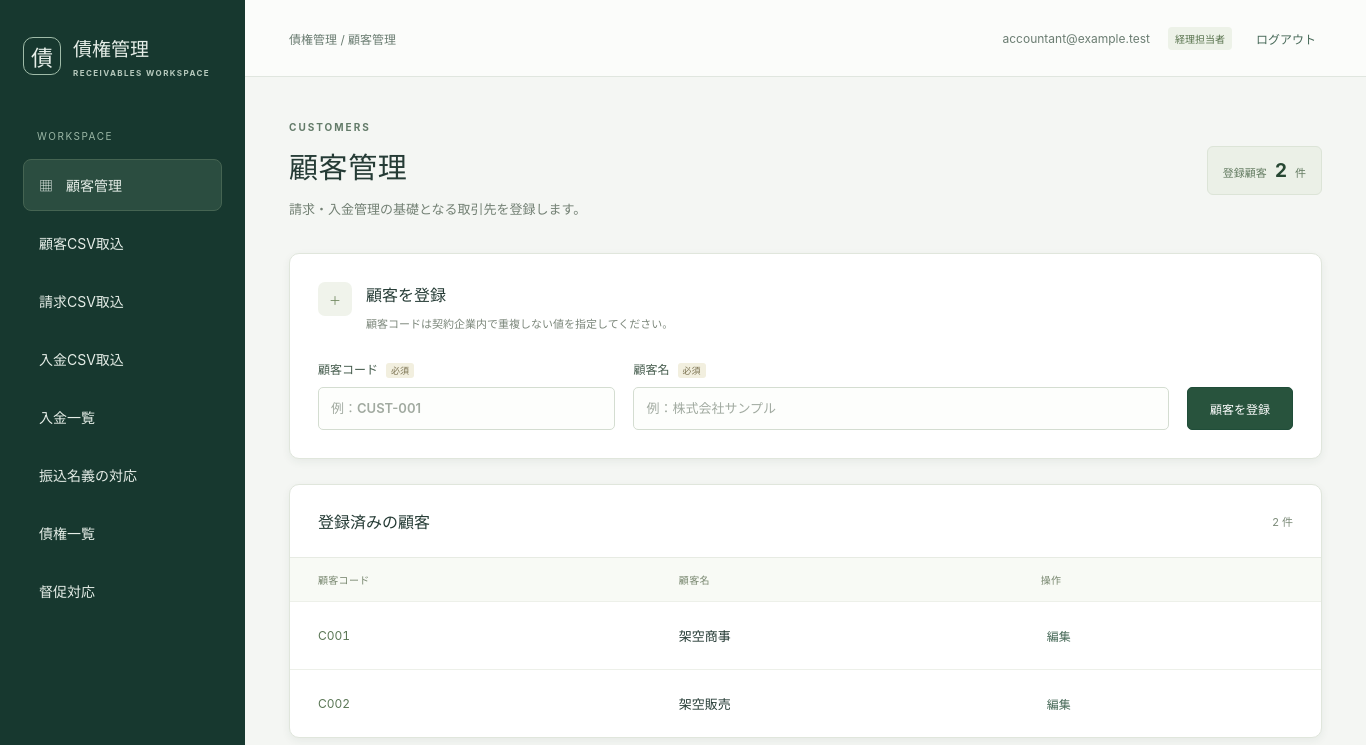
Test case: Manual payer aliases › keeps duplicate registration input and explains that the active pair already exists
Click the button "振込名義の対応". click: click(122, 475)
box: [23, 449, 222, 501]
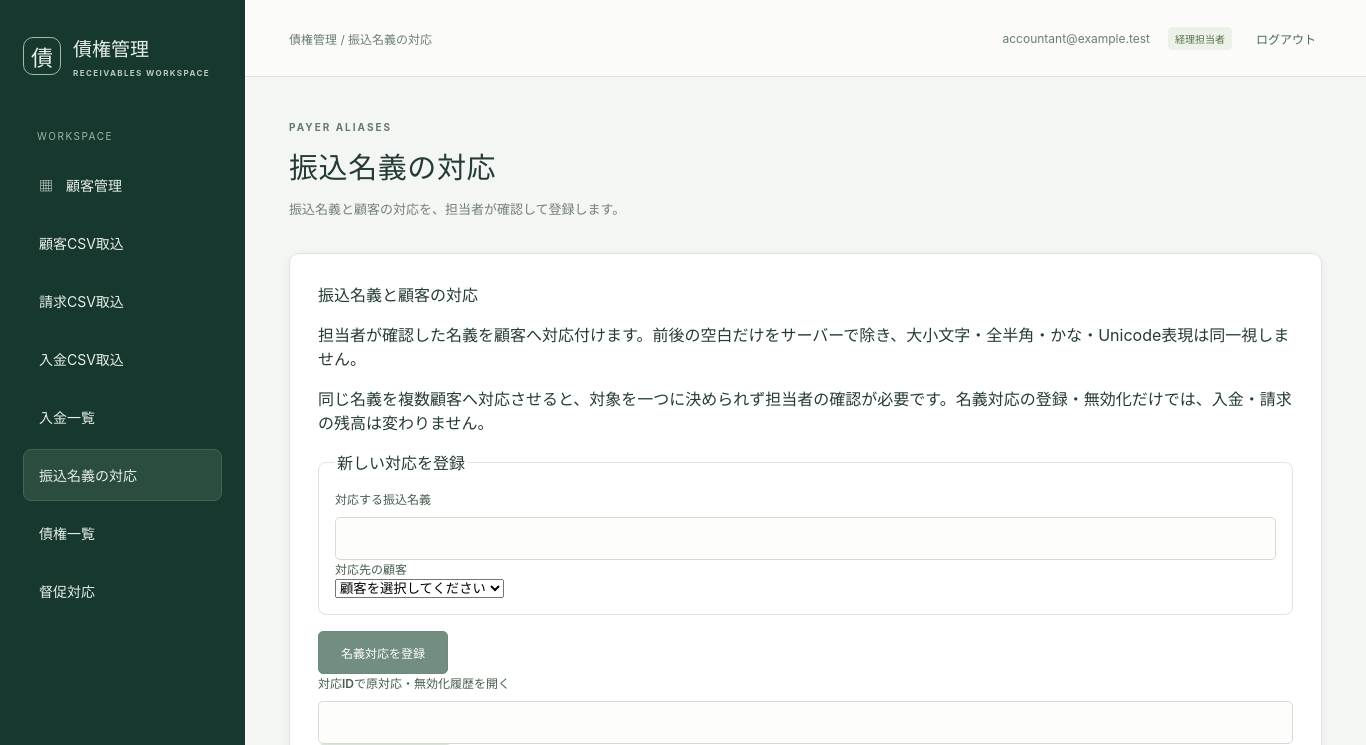
Type "  ｶｸｳ KAKUU kakuu é é  " into the field labelled "対応する振込名義". click: (806, 539)
box: [335, 517, 1276, 560]
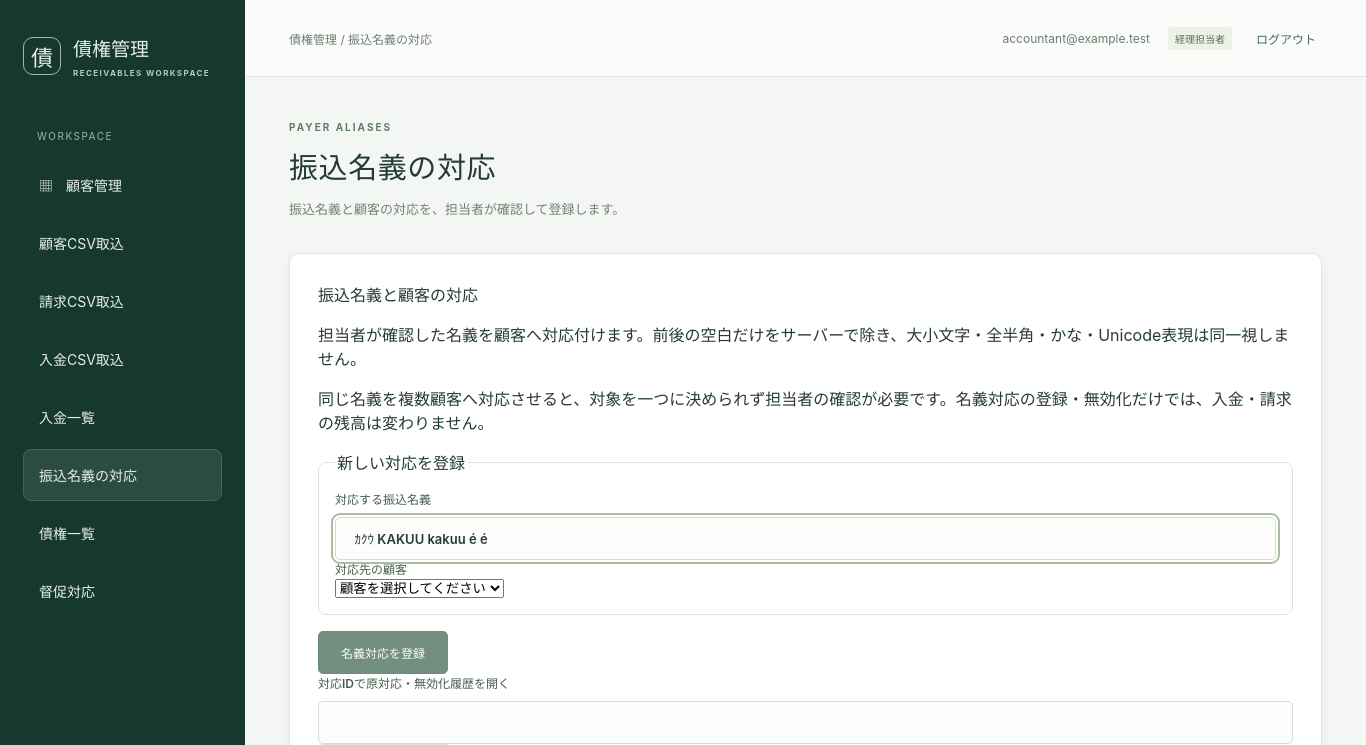
Select "C001 — 架空商事" in the dropdown labelled "対応先の顧客". click: (420, 589)
box: [335, 579, 504, 598]
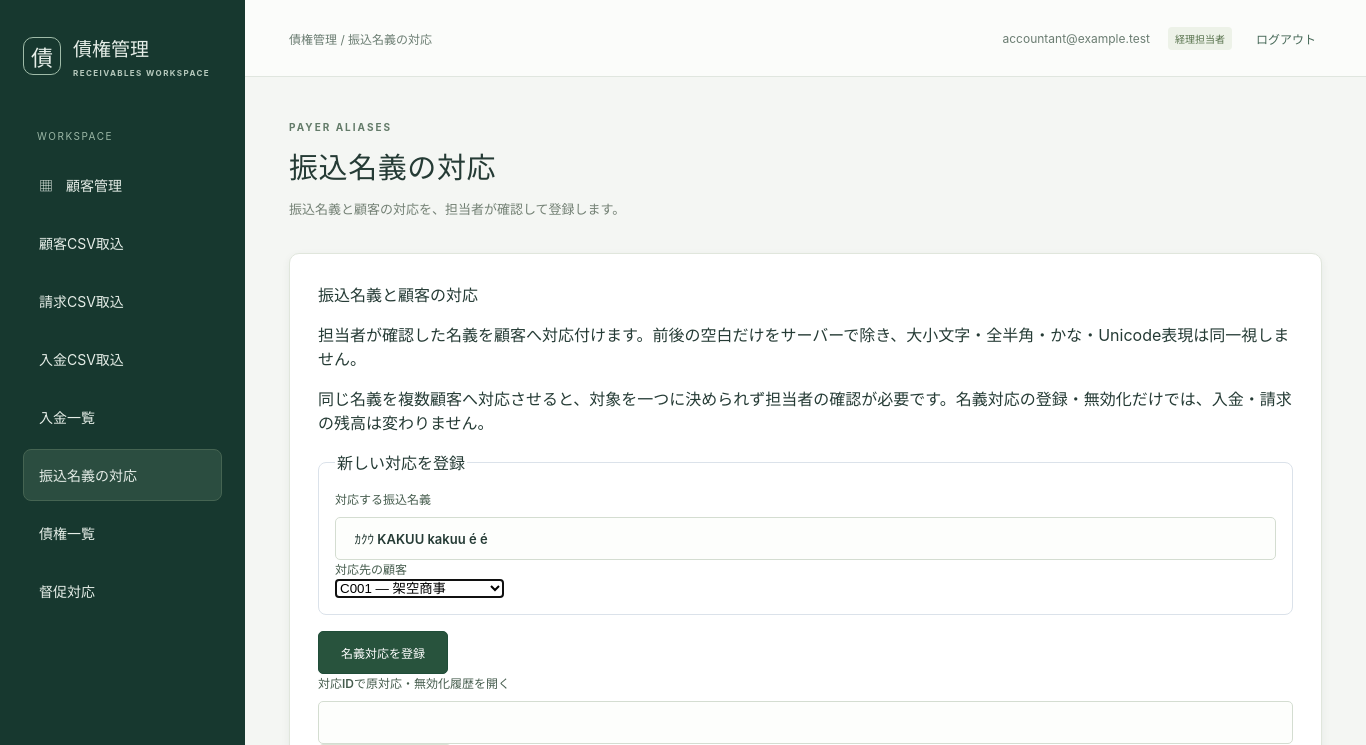
Click the button "名義対応を登録". click: click(383, 653)
box: [318, 631, 448, 674]
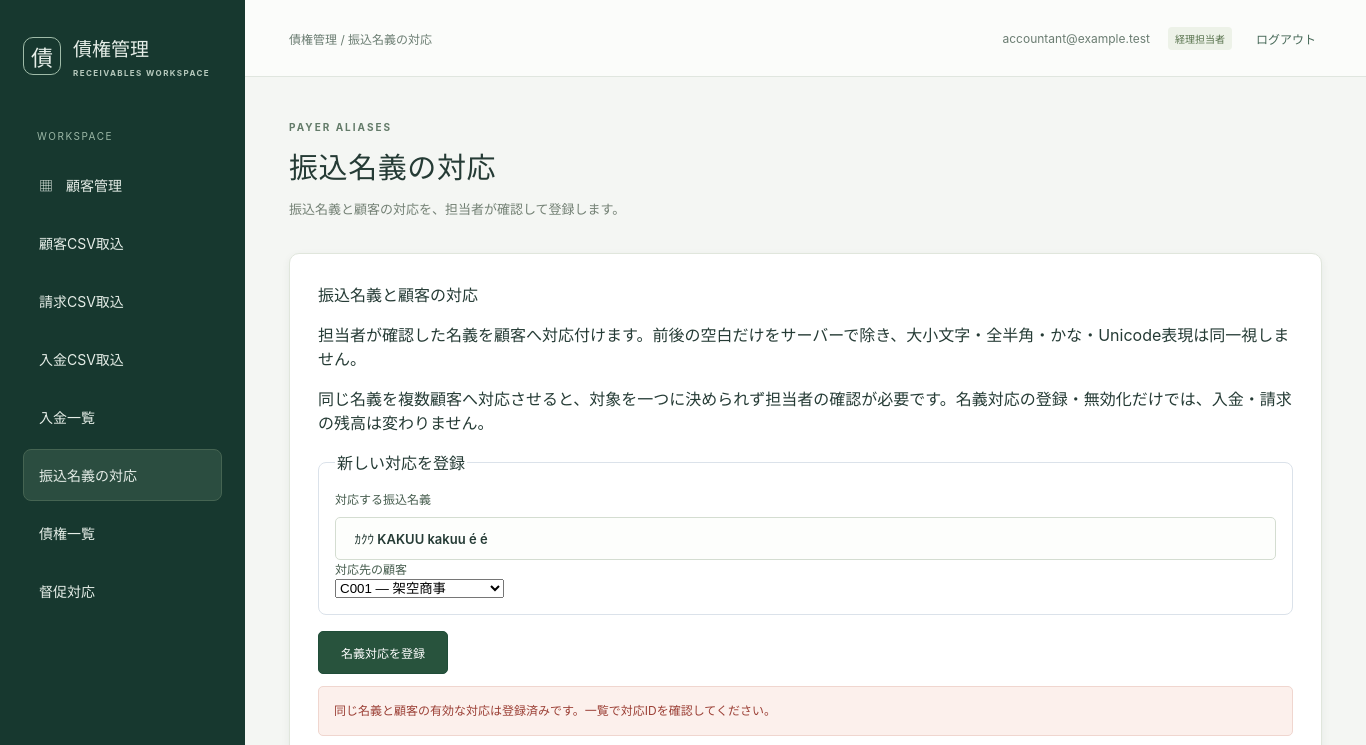
Check: the message shows "登録済み", box [334, 703, 776, 718]
